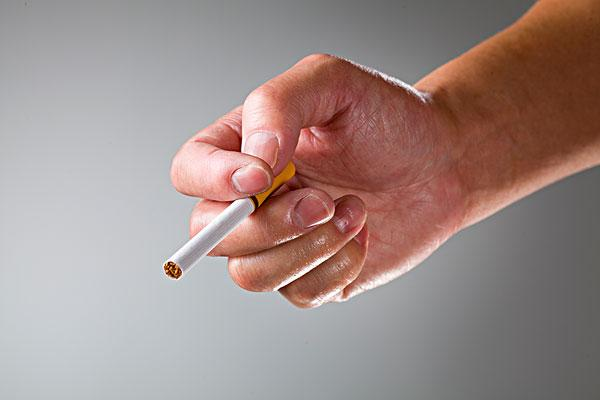smoke: (162, 161, 297, 282)
